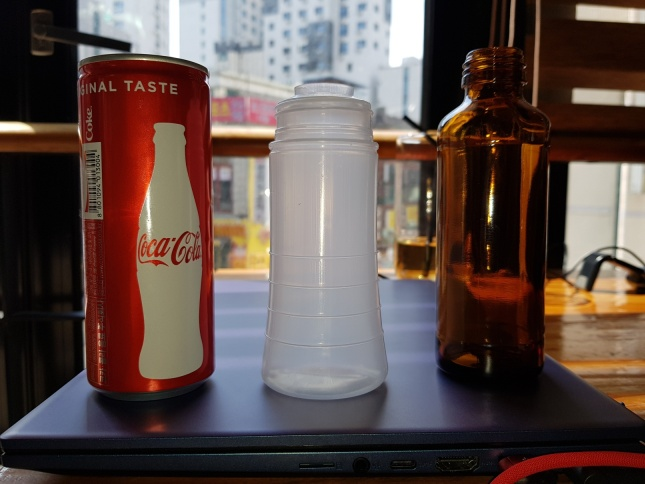Can: (73, 51, 218, 398)
Glass: (430, 44, 554, 393)
Plastic: (256, 78, 390, 403)
